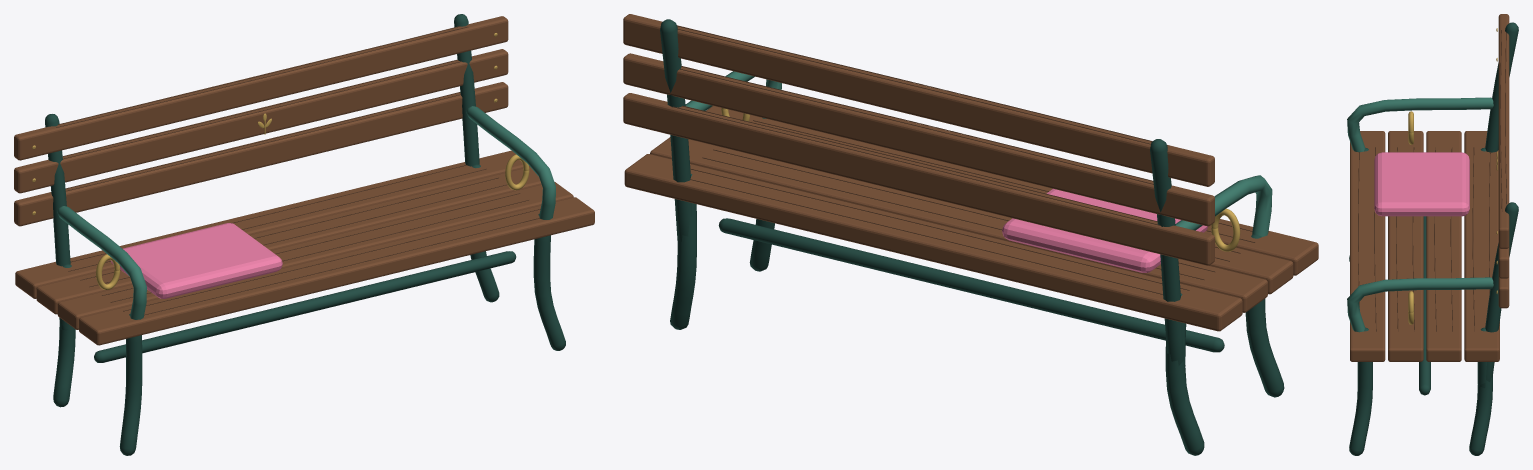
Rendered from garden_bench.glb.
3 views of the same model, side by side, from view 1: azimuth 30°, elevation 25°; view 2: azimuth 150°, elevation 25°; view 3: azimuth 270°, elevation 25° (orthographic). The views are drawn at different scales.
Visible parts, largest first — view 1: Bevelled_timber.003, Bevelled_timber.006, Bevelled_timber.005, Bevelled_timber.004, Bevelled_timber, Bevelled_timber.002, Bevelled_timber.001, Rose_seat_cushion, Underseat_stretcher, Rolled_armrest.001, Rolled_armrest, Cast_iron_foot.001 (+5 smaller); view 2: Bevelled_timber, Bevelled_timber.004, Bevelled_timber.005, Bevelled_timber.006, Bevelled_timber.001, Underseat_stretcher, Bevelled_timber.003, Rose_seat_cushion, Curved_back_stanchion, Curved_back_stanchion.001, Cast_iron_foot, Cast_iron_foot.002 (+4 smaller); view 3: Bevelled_timber.003, Bevelled_timber, Rose_seat_cushion, Bevelled_timber.001, Bevelled_timber.002, Bevelled_timber.006, Rolled_armrest, Rolled_armrest.001, Cast_iron_foot.003, Cast_iron_foot.002, Curved_back_stanchion.001, Curved_back_stanchion (+8 smaller).
Part boxes in pixels (x1,y1,x2,y2): Bevelled_timber.003: [79, 197, 594, 345]; Bevelled_timber.006: [14, 16, 508, 160]; Bevelled_timber.005: [14, 49, 508, 193]; Bevelled_timber.004: [14, 82, 508, 226]; Bevelled_timber: [15, 150, 529, 298]; Bevelled_timber.002: [57, 182, 573, 329]; Bevelled_timber.001: [36, 167, 541, 314]; Rose_seat_cushion: [111, 223, 282, 298]; Underseat_stretcher: [94, 251, 516, 362]; Rolled_armrest.001: [466, 106, 555, 236]; Rolled_armrest: [57, 206, 146, 319]; Cast_iron_foot.001: [119, 314, 142, 455]; Bevelled_timber: [624, 154, 1242, 331]; Bevelled_timber.004: [623, 93, 1214, 265]; Bevelled_timber.005: [623, 53, 1214, 226]; Bevelled_timber.006: [623, 14, 1214, 186]; Bevelled_timber.001: [650, 137, 1267, 312]; Underseat_stretcher: [718, 218, 1224, 352]; Bevelled_timber.003: [706, 106, 1318, 275]; Rose_seat_cushion: [1002, 188, 1207, 272]; Curved_back_stanchion: [1150, 139, 1185, 370]; Curved_back_stanchion.001: [660, 19, 692, 241]; Cast_iron_foot: [1165, 293, 1204, 455]; Cast_iron_foot.002: [670, 174, 696, 329]; Bevelled_timber.003: [1350, 131, 1385, 361]; Bevelled_timber: [1464, 131, 1499, 361]; Rose_seat_cushion: [1374, 152, 1469, 216]; Bevelled_timber.001: [1426, 131, 1461, 361]; Bevelled_timber.002: [1388, 131, 1423, 361]; Bevelled_timber.006: [1498, 14, 1509, 248]; Rolled_armrest: [1347, 97, 1493, 152]; Rolled_armrest.001: [1347, 277, 1493, 332]; Cast_iron_foot.003: [1349, 327, 1372, 455]; Cast_iron_foot.002: [1469, 327, 1492, 455]; Curved_back_stanchion.001: [1479, 202, 1518, 387]; Curved_back_stanchion: [1485, 22, 1518, 152].
Size of the model in its own units: 1.9 by 1 by 0.6296.
